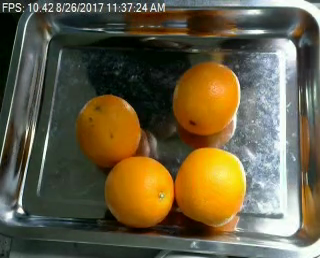Orange: (175, 146, 246, 226), (102, 156, 173, 228), (173, 61, 241, 134), (75, 93, 141, 168)
